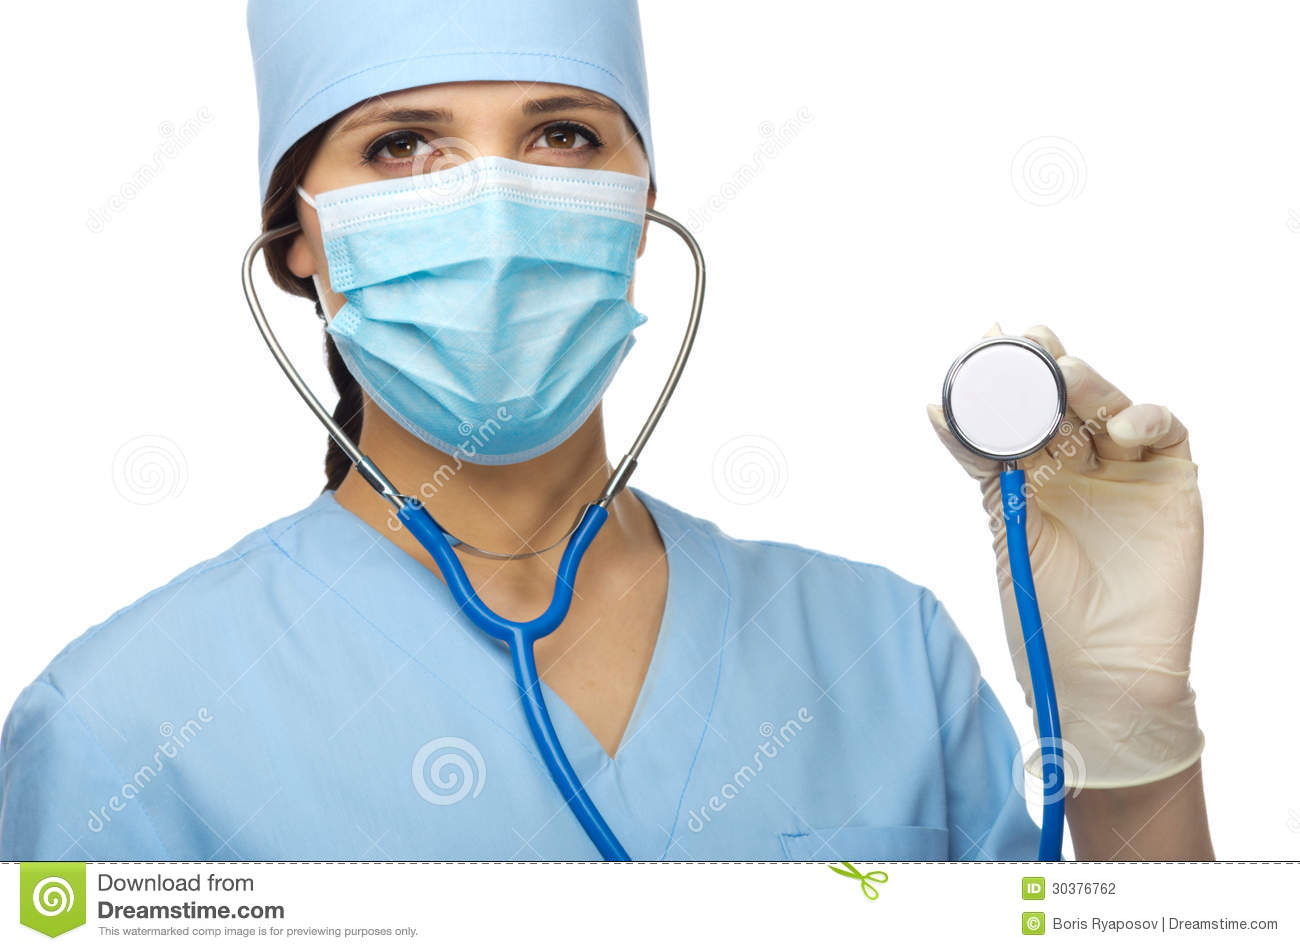mask: (299, 166, 637, 457)
